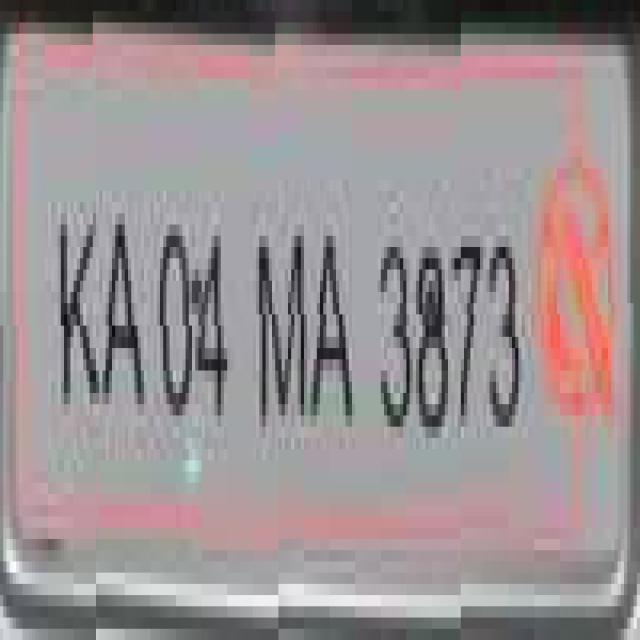license_plate: (6, 23, 612, 550)
